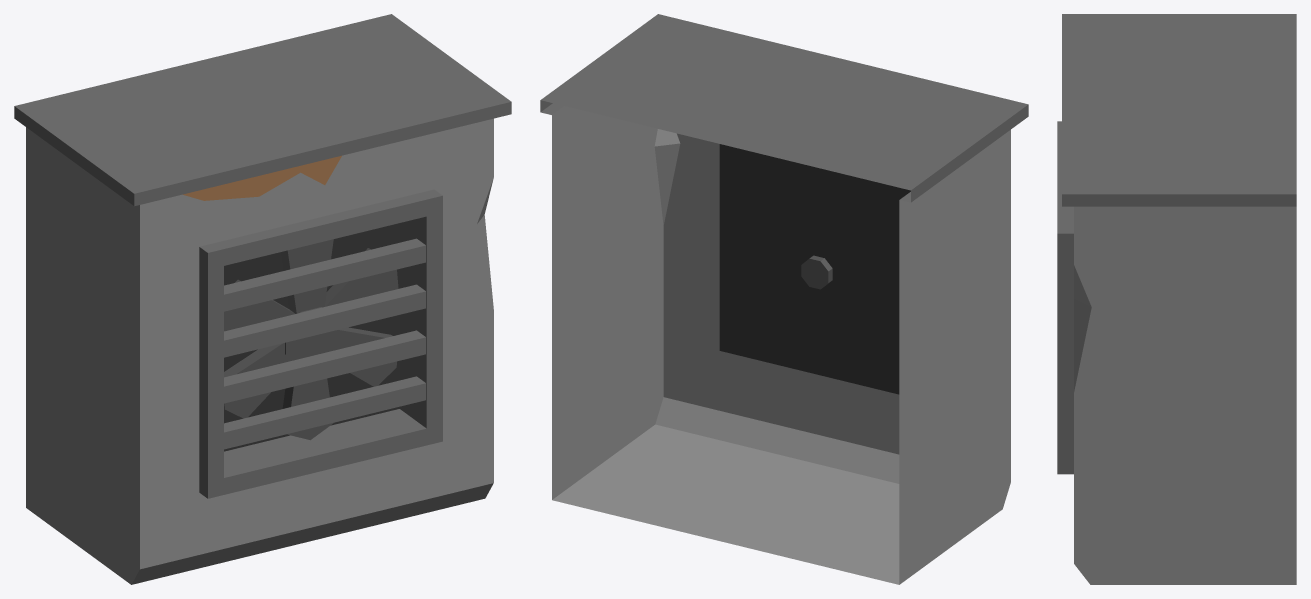
File: SM_BuildingsDecor_21.fbx
3 renders of one model, left to right at view 1: azimuth 30°, elevation 25°; view 2: azimuth 150°, elevation 25°; view 3: azimuth 270°, elevation 25°, orthographic. The views are drawn at different scales.
Visible parts, largest first — view 1: SM_BuildingsDecor_21; view 2: SM_BuildingsDecor_21; view 3: SM_BuildingsDecor_21.
Boxes of the visible parts, x1=… form: SM_BuildingsDecor_21: x1=14, y1=14, x2=511, y2=584; SM_BuildingsDecor_21: x1=540, y1=14, x2=1028, y2=584; SM_BuildingsDecor_21: x1=1057, y1=14, x2=1296, y2=584.
Bounding box in the file's own units: 0.577 × 0.5913 × 0.324.
